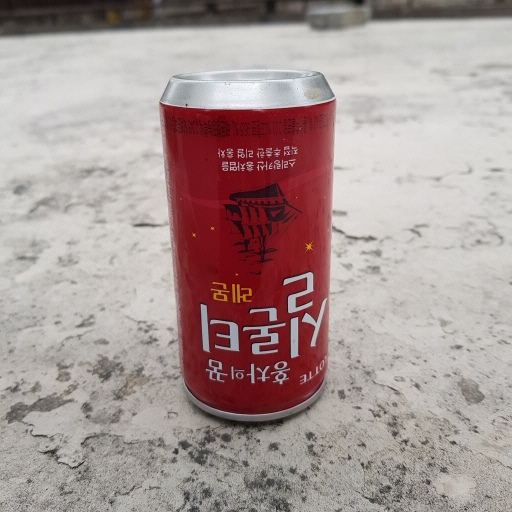Metal_0: (158, 70, 341, 425)
